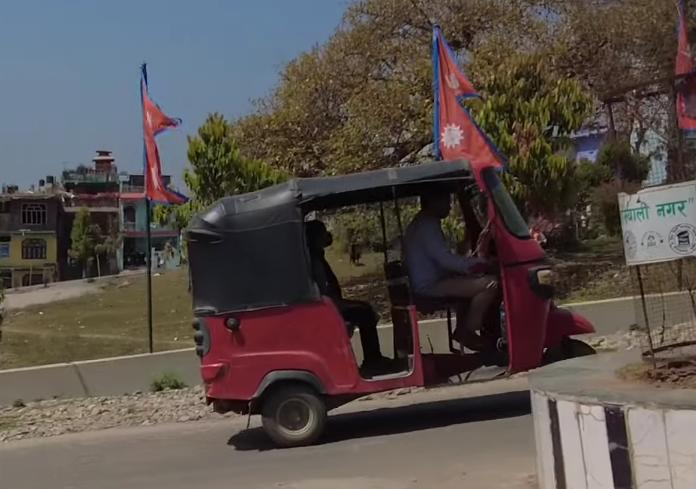auto_rickshaw: (167, 154, 605, 457)
